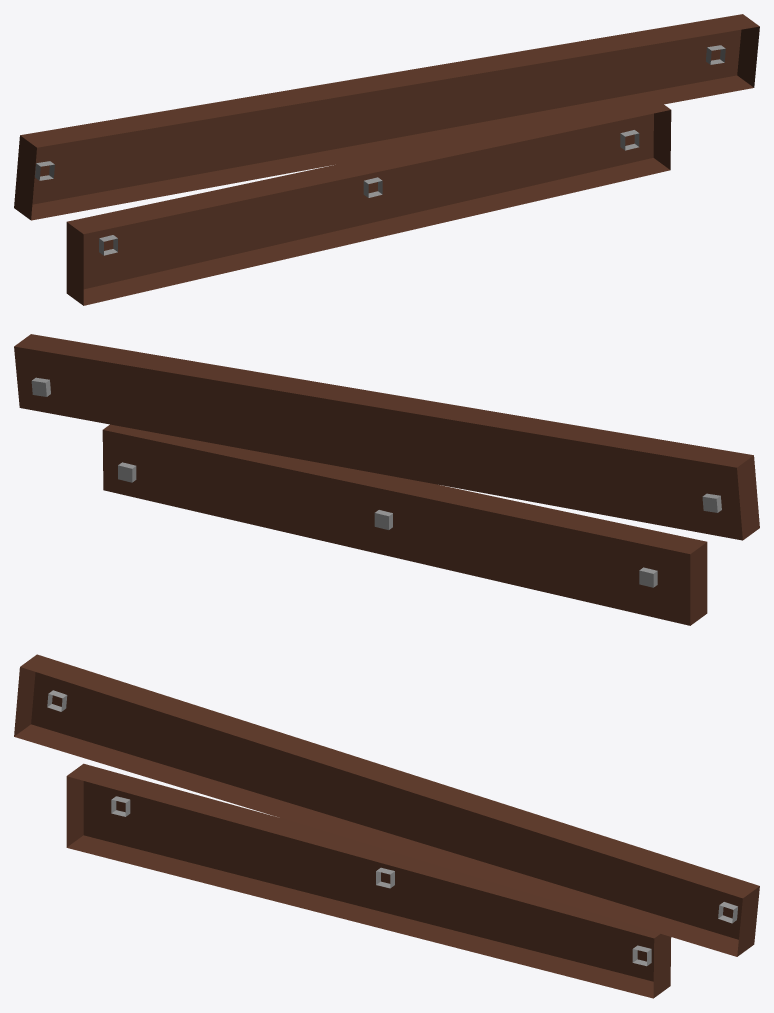
Rendered from Debris 02.FBX.
The picture shows the model from 3 angles, top to bottom: view 1: azimuth 30°, elevation 25°; view 2: azimuth 150°, elevation 25°; view 3: azimuth 330°, elevation 25°; orthographic projection.
Parts seen in each view (by area): view 1: Debris 02; view 2: Debris 02; view 3: Debris 02.
Boxes of the visible parts, x1,y1,x2,y2 form: Debris 02: [14, 14, 759, 305]; Debris 02: [14, 334, 759, 625]; Debris 02: [14, 654, 759, 998].
Size of the model in its own units: 400 by 92.94 by 20.28.
Materials: 1 (1 with a texture image).
